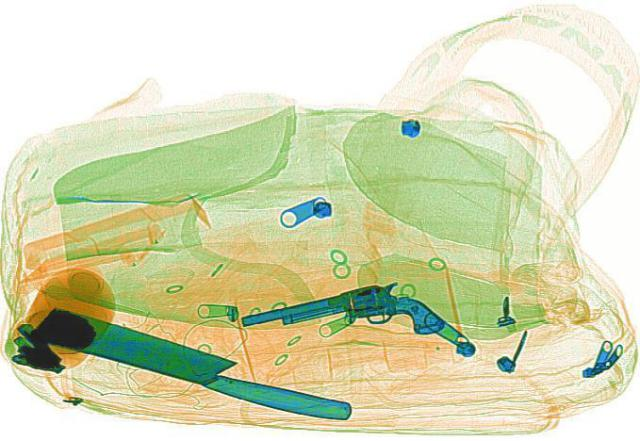Gun: (236, 277, 414, 349), (278, 285, 448, 357)
Knife: (22, 304, 366, 424)
